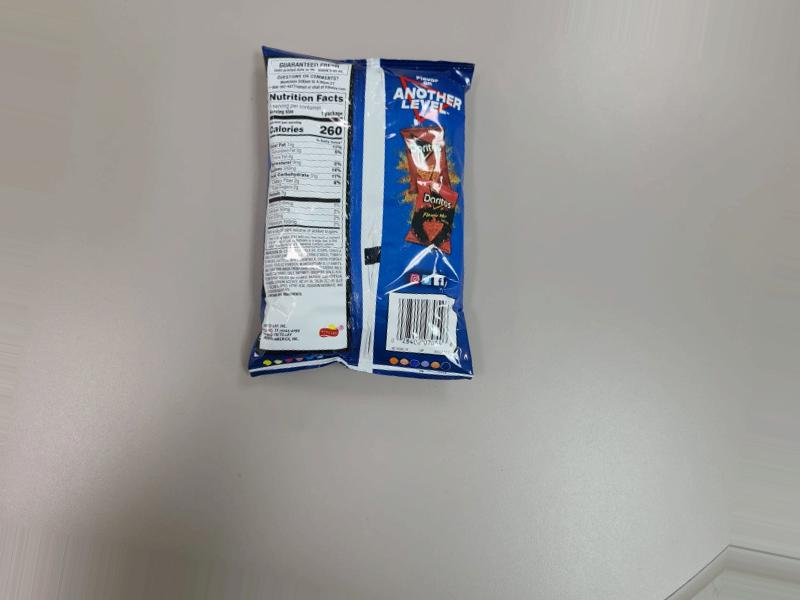doritos: (229, 91, 489, 387)
